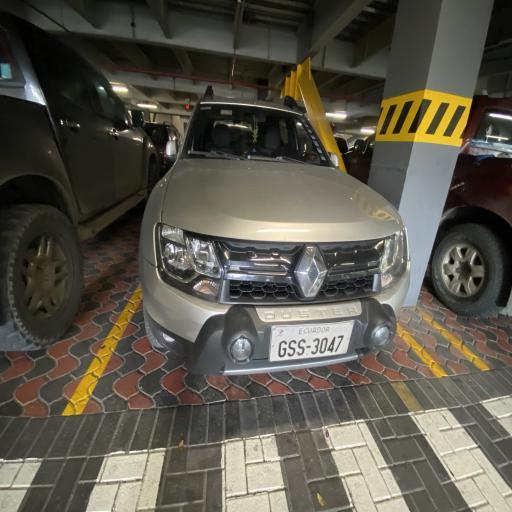license_plate: (277, 338, 288, 358), (296, 338, 306, 358), (310, 337, 320, 355), (335, 335, 344, 353), (327, 336, 335, 354), (288, 340, 296, 357), (320, 337, 328, 354)
